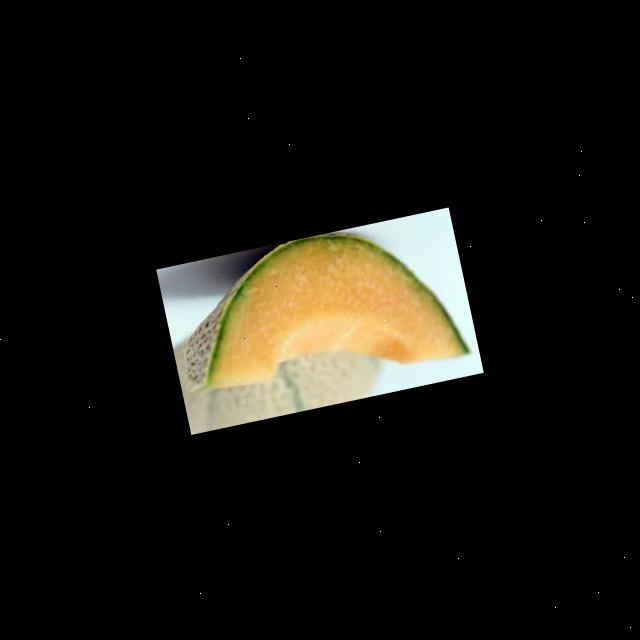Hami Melon: (164, 208, 471, 414)
